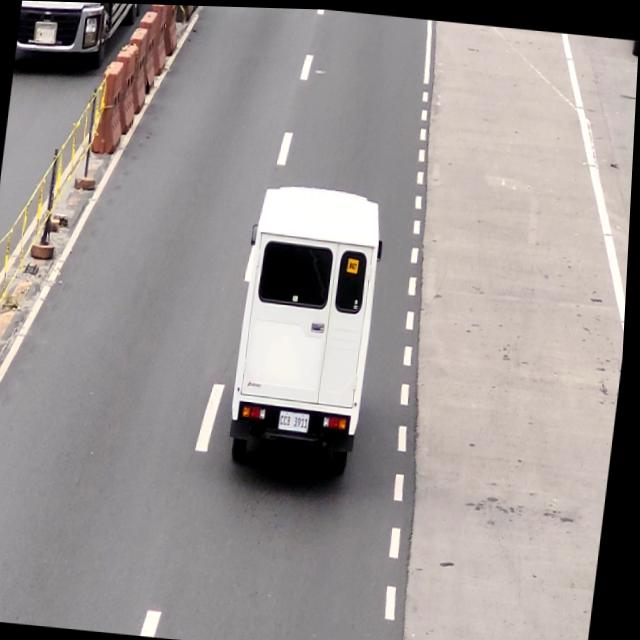Car: (230, 178, 385, 477)
License-Plate: (281, 407, 317, 435)
